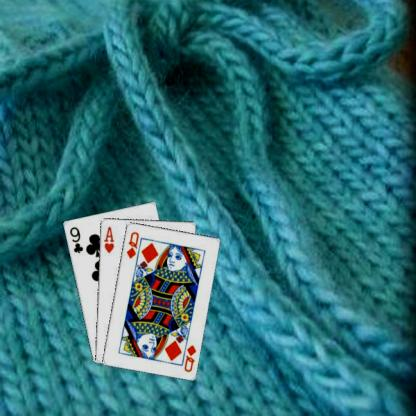9C: (67, 223, 84, 255)
AH: (101, 224, 116, 254)
QD: (123, 228, 140, 260), (181, 342, 197, 373)
